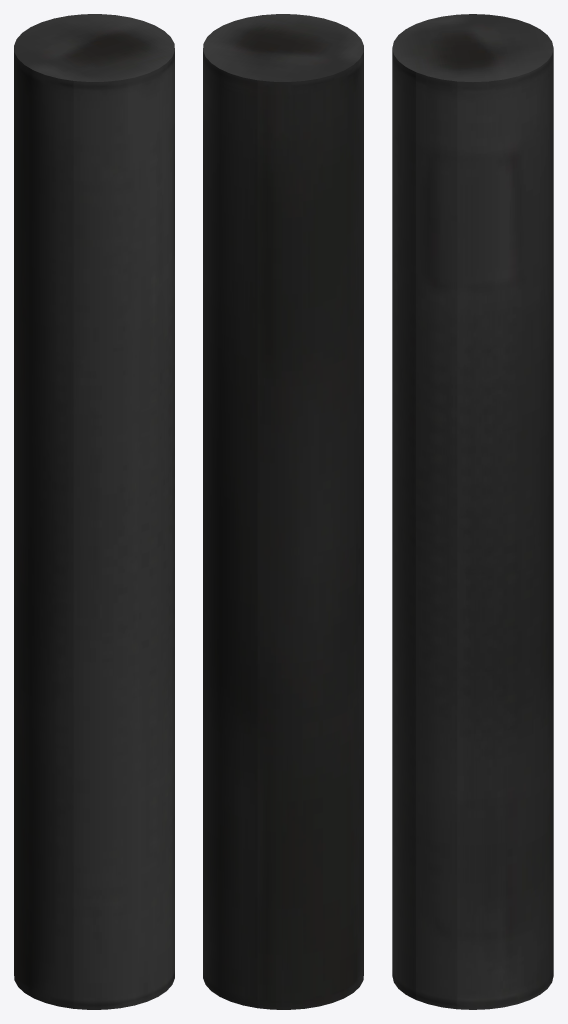
The model's file is support_arm__lower_pivot_barrel.glb.
The picture shows the model from 3 angles, left to right: view 1: azimuth 30°, elevation 25°; view 2: azimuth 150°, elevation 25°; view 3: azimuth 270°, elevation 25°; orthographic projection.
Visible parts, largest first — view 1: world; view 2: world; view 3: world.
Boxes of the visible parts, box(x1,y1,x2,y2) form: world: box(14, 14, 174, 1009); world: box(203, 14, 363, 1009); world: box(392, 14, 553, 1009).
Bounding box in the file's own units: 0.052 × 0.33 × 0.052.
Materials: 1 (1 with a texture image).
